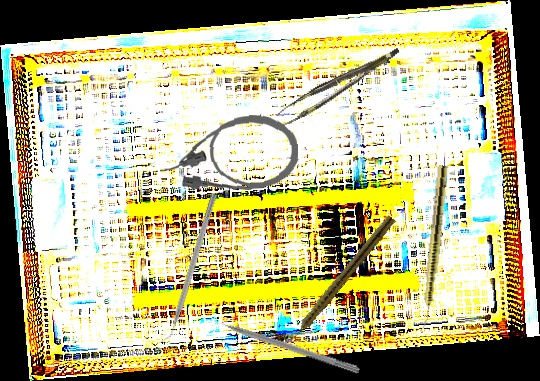Cannula: (156, 112, 301, 196)
Chopper: (156, 189, 218, 348)
Handpiece: (286, 213, 396, 344), (418, 164, 449, 333)
Pusher: (203, 312, 361, 375)
Tissue Forceps: (271, 47, 408, 128)
